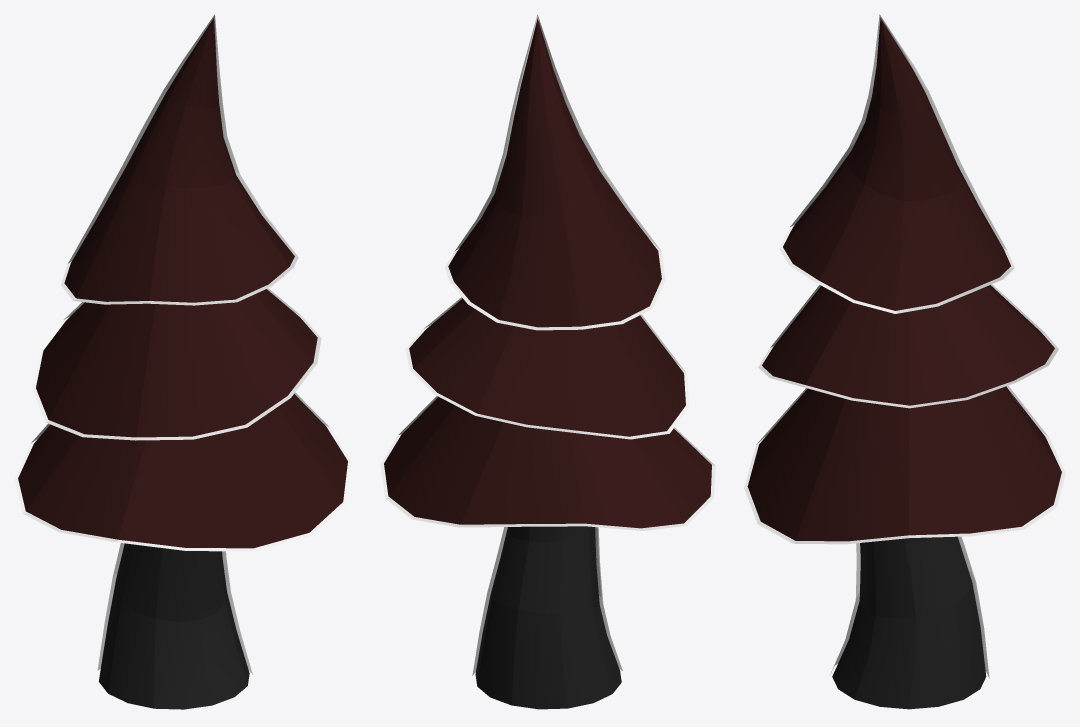
File: Tree0.glb
3 views of the same model, side by side, from view 1: azimuth 30°, elevation 25°; view 2: azimuth 150°, elevation 25°; view 3: azimuth 270°, elevation 25° (orthographic). The views are drawn at different scales.
Visible parts, largest first — view 1: Tree0_LOD0; view 2: Tree0_LOD0; view 3: Tree0_LOD0.
Part boxes in pixels (x1,y1,x2,y2): Tree0_LOD0: (14,14,351,709); Tree0_LOD0: (380,14,715,709); Tree0_LOD0: (744,14,1065,709).
Size of what is drawn, in the model's own units: 8.49 by 17.97 by 7.73.
2 materials, 1 textured.
